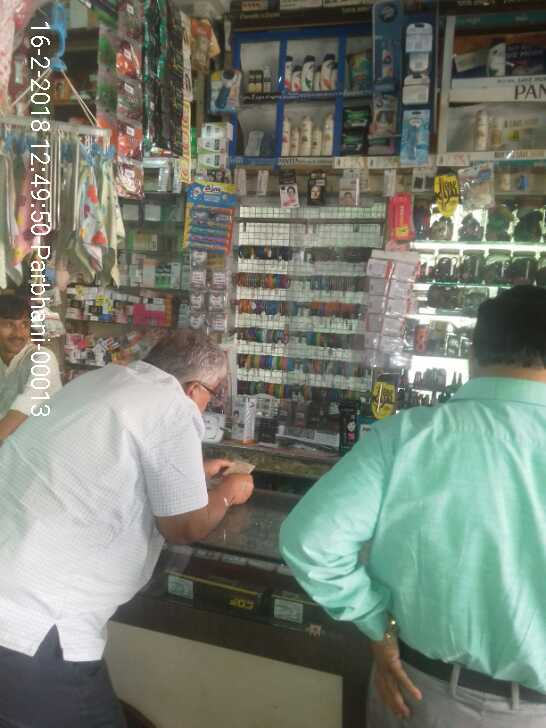venus: (400, 110, 433, 164), (404, 73, 429, 105)
